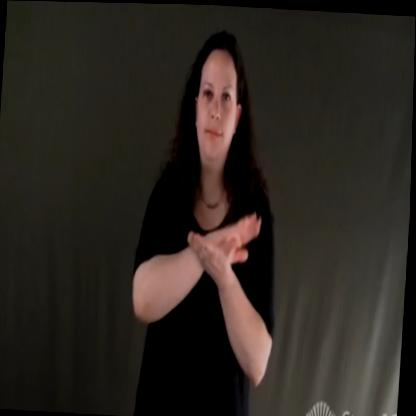NiceToMeetYou: (175, 192, 269, 296)
